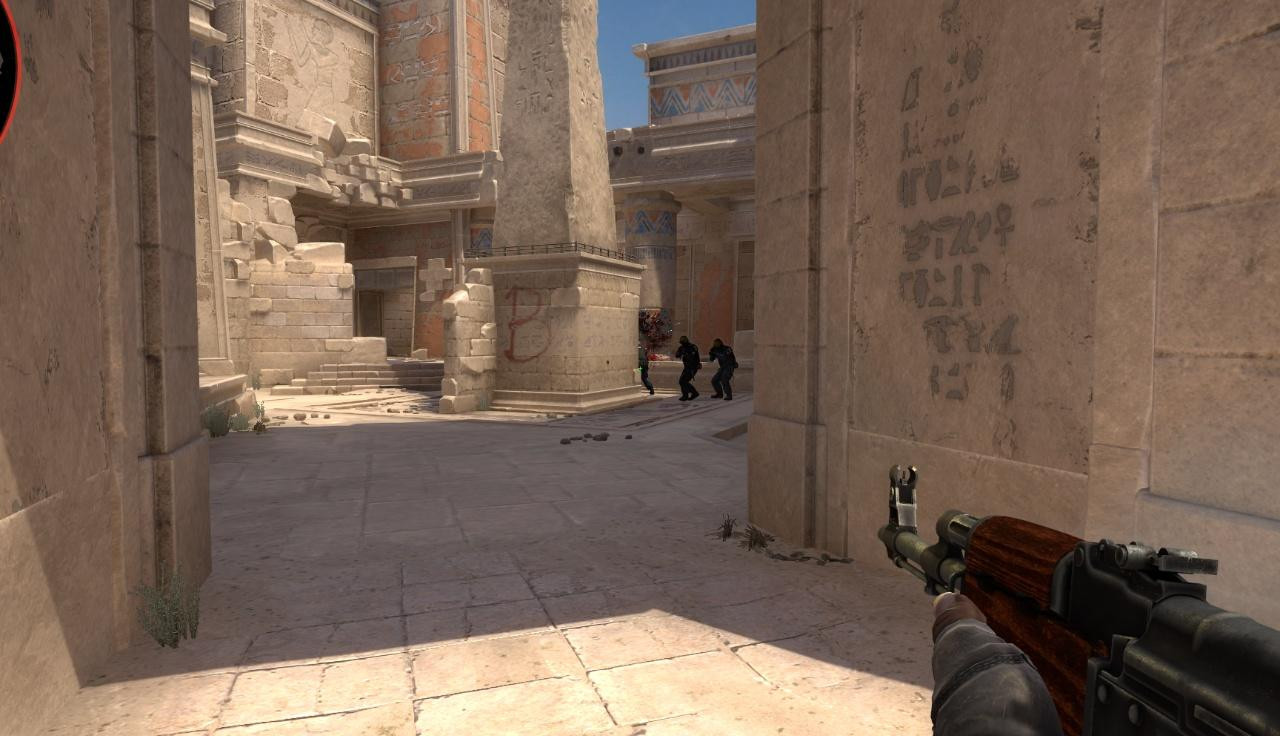ct: (708, 338, 736, 401), (678, 335, 699, 401), (638, 341, 650, 395)
cthead: (714, 338, 722, 349), (679, 336, 688, 345)
rifle: (872, 461, 1280, 736)
